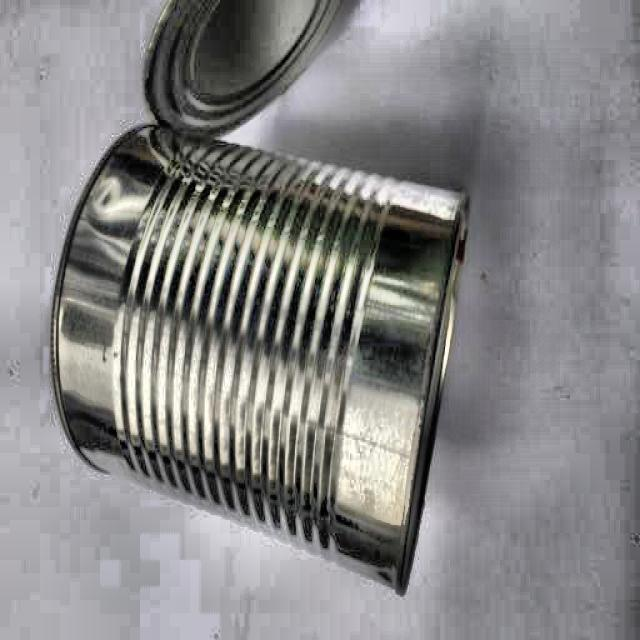metal: (50, 4, 465, 613)
